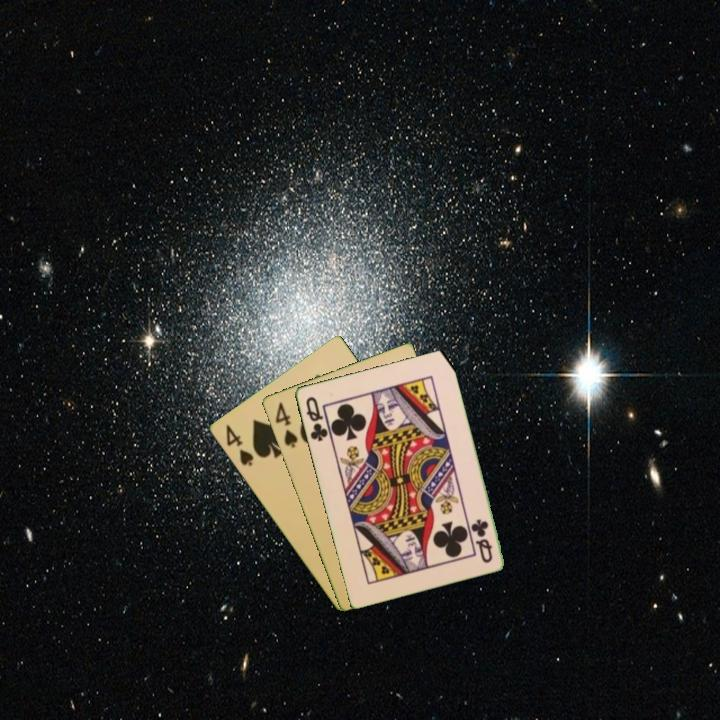4s: (222, 421, 256, 469), (271, 398, 300, 451)
Qc: (302, 393, 331, 444), (468, 515, 495, 566)
